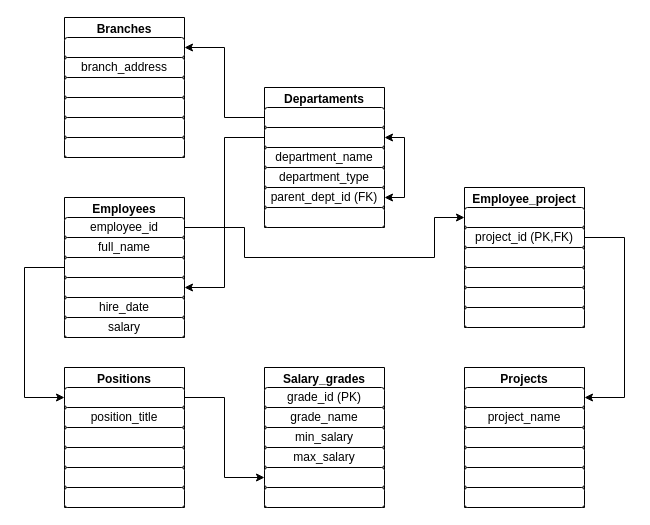
The diagram is 650 pixels wide and 525 high, and some of its shapes have lost their labels. The centre of each missing label's shape, as x and y in pixels:
branch_id (FK): the point at 324,117
branch_id (PK): the point at 124,47
departm ent_id (FK): the point at 324,137
department_id (FK): the point at 124,287
employee_id (PK,FK): the point at 524,217
position_id (FK ): the point at 324,477
position_id (FK): the point at 124,267
position_id (PK): the point at 124,397
project_id (PK): the point at 524,397
